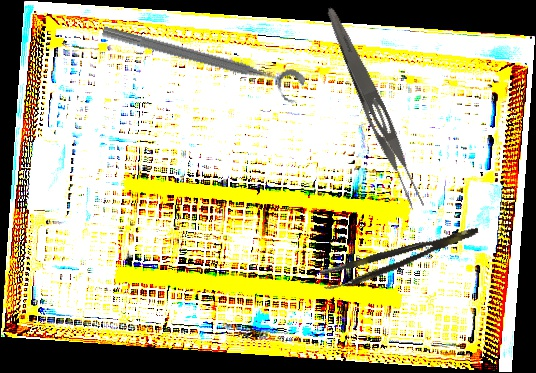Dressing Forceps: (315, 4, 431, 214)
Fixation Ring: (97, 19, 307, 107)
Tissue Forceps: (318, 224, 484, 294)
